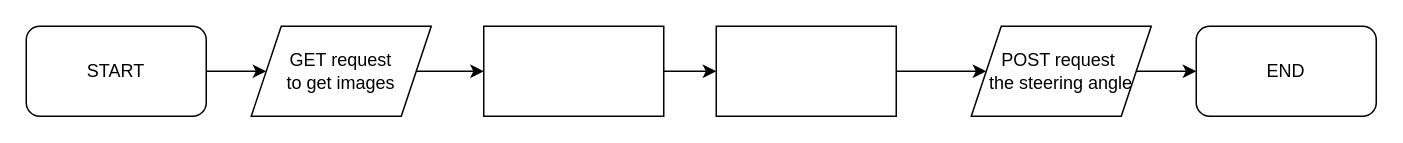
This 1403x143 diagram has some shape labels left out. The shapes that lost their labels are listed below. From the top down, each one's centre as x and y in pixels, then its label:
At (573,70): "Image processing".
At (805,70): "Get steering angle".
